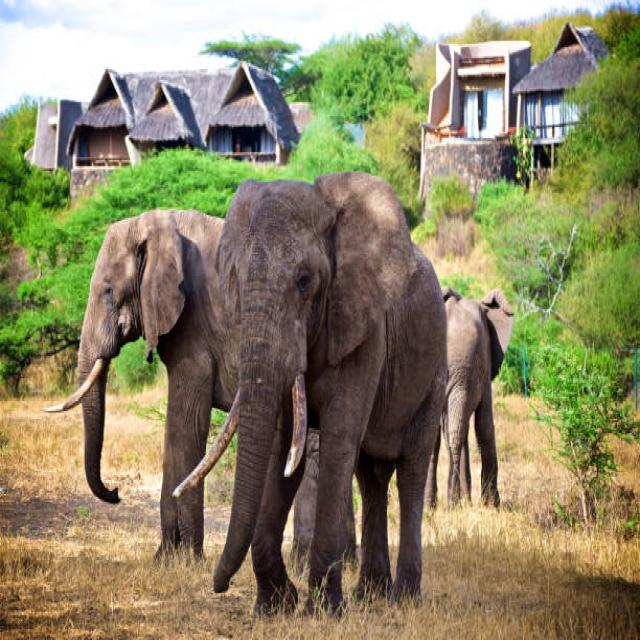Elephant: (209, 145, 452, 627), (47, 192, 238, 600), (414, 261, 559, 550)
